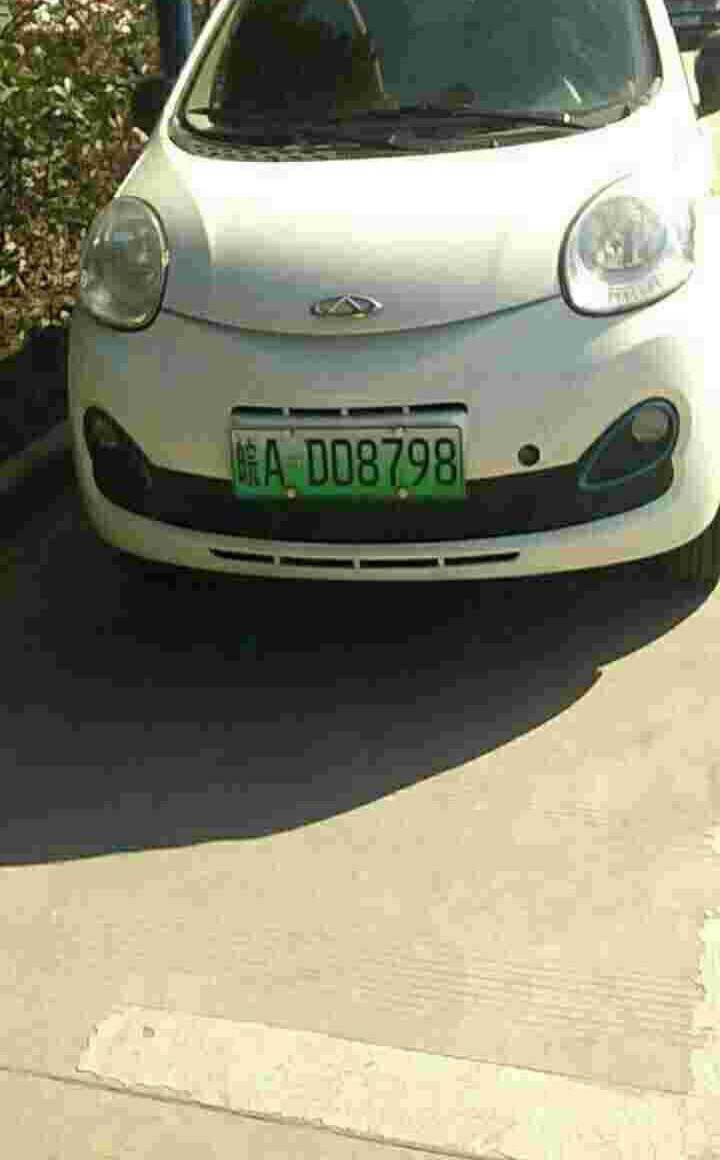car: (223, 422, 494, 509)
